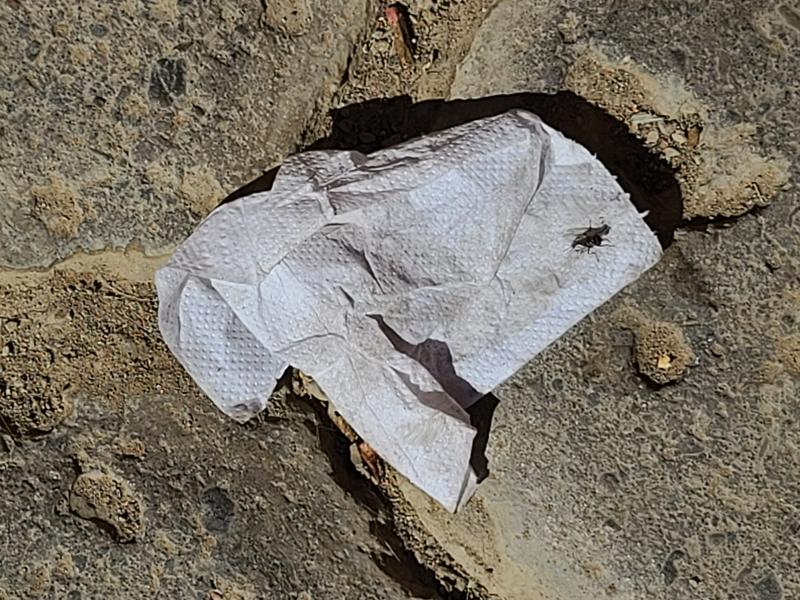papel: (155, 112, 664, 514)
